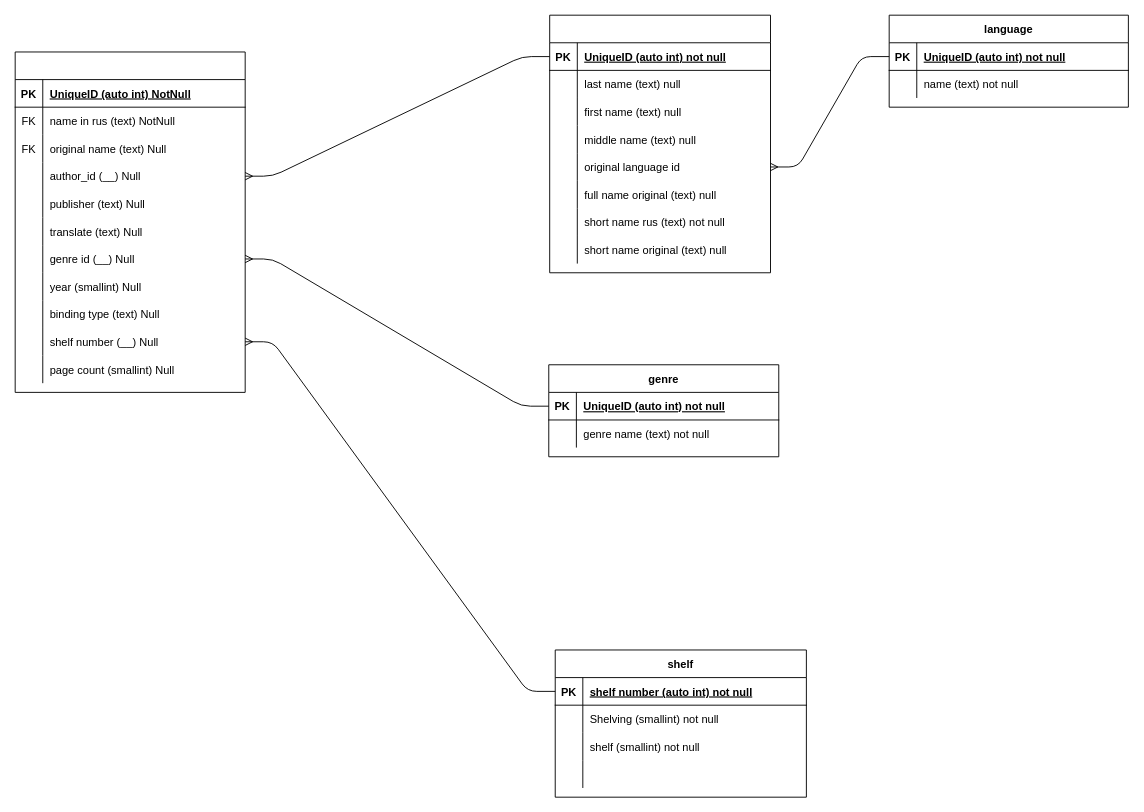
Image size: 1144x812. Some labels were removed from this diagram. Each missing label, with the box of its shape:
author: (549, 14, 770, 273)
Book: (14, 51, 245, 392)
